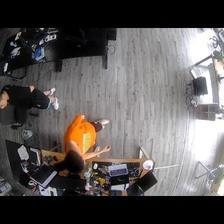normal: (62, 113, 111, 173), (1, 84, 60, 112)
